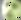without_mask: (1, 1, 21, 20)
